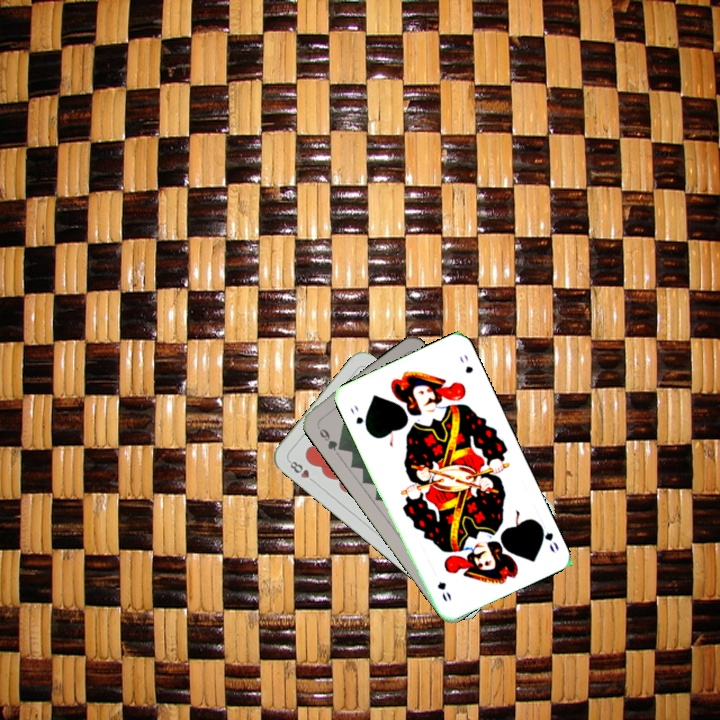G9: (313, 421, 346, 454)
GO: (533, 518, 561, 555), (346, 401, 371, 434)
H8: (284, 456, 319, 486)
